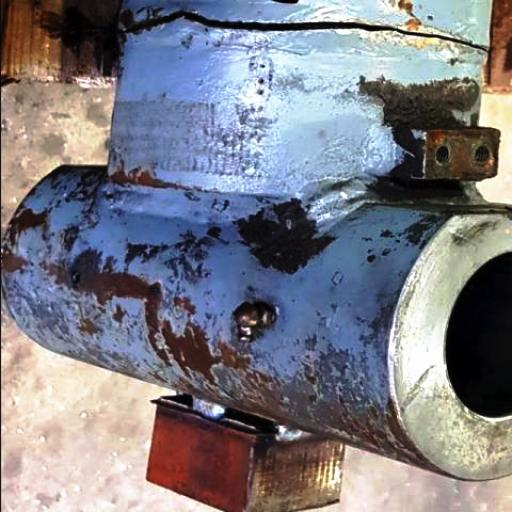crack: (122, 6, 488, 62)
